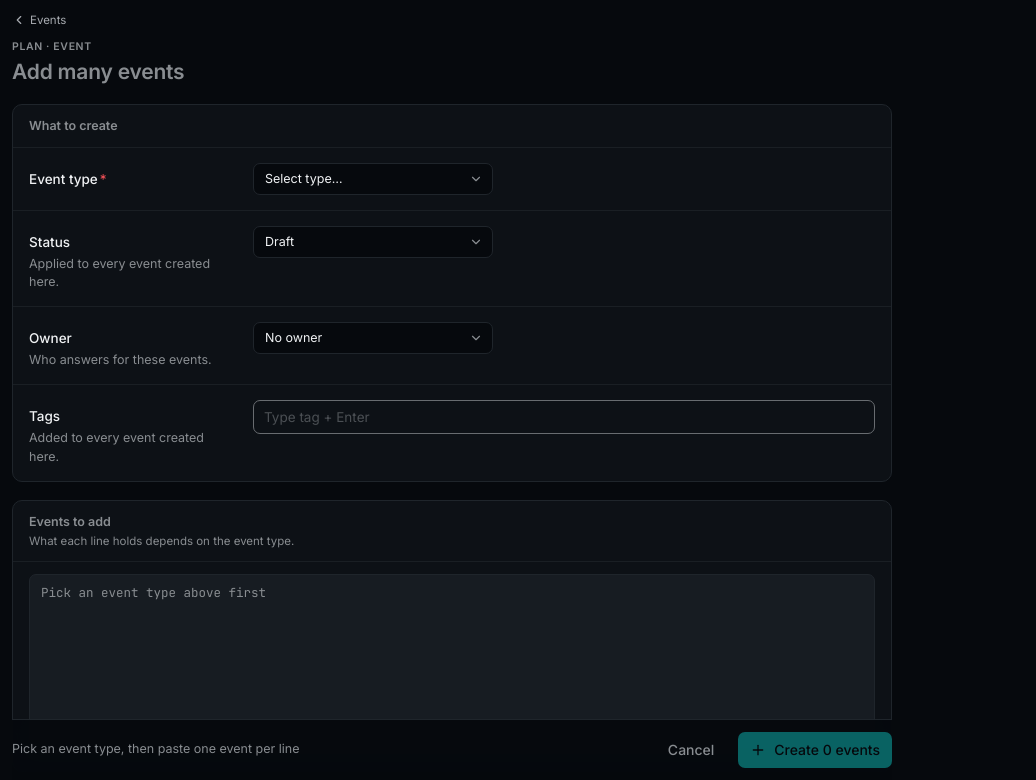
Scenario: EventBulkForm duplicate check › says on the action bar why Create is held
Expected: the message "Pick an event type, then paste one event per line" is shown, [12,742,300,757]
Select "Structured Event" in the dropdown labelled "Event type" at (373,179), box [253,163,493,195]
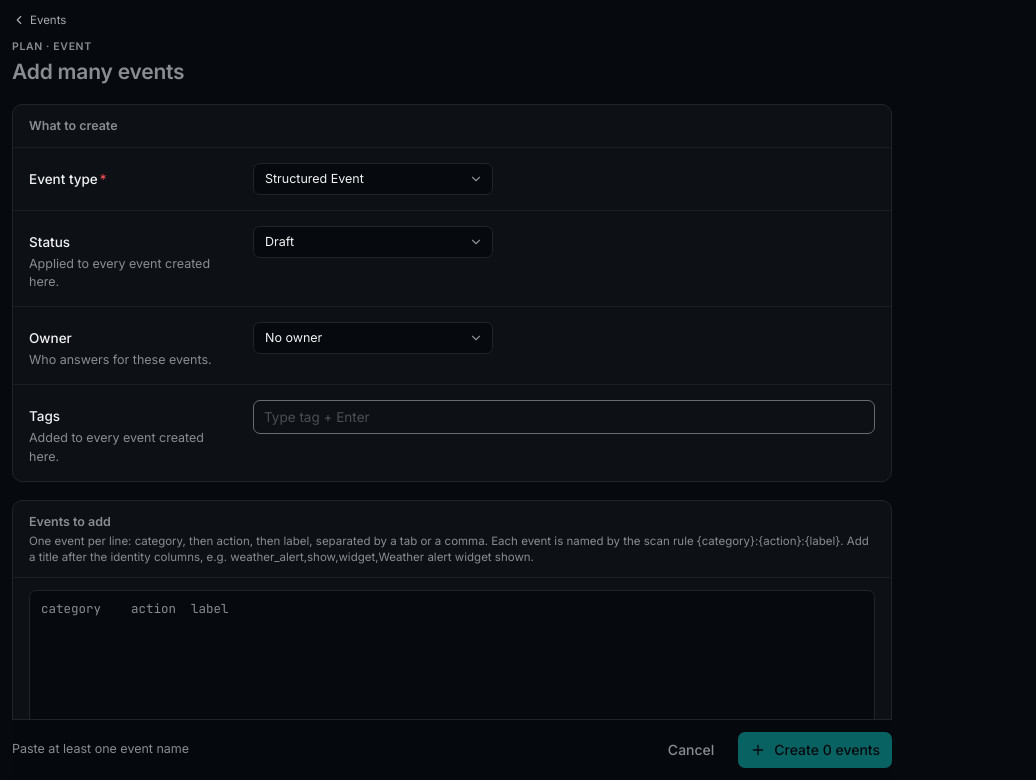
Expected: the button "Create 0 events" is disabled, [738,732,892,768]
Now the message "Paste at least one event name" is shown, box [12,742,189,757]
